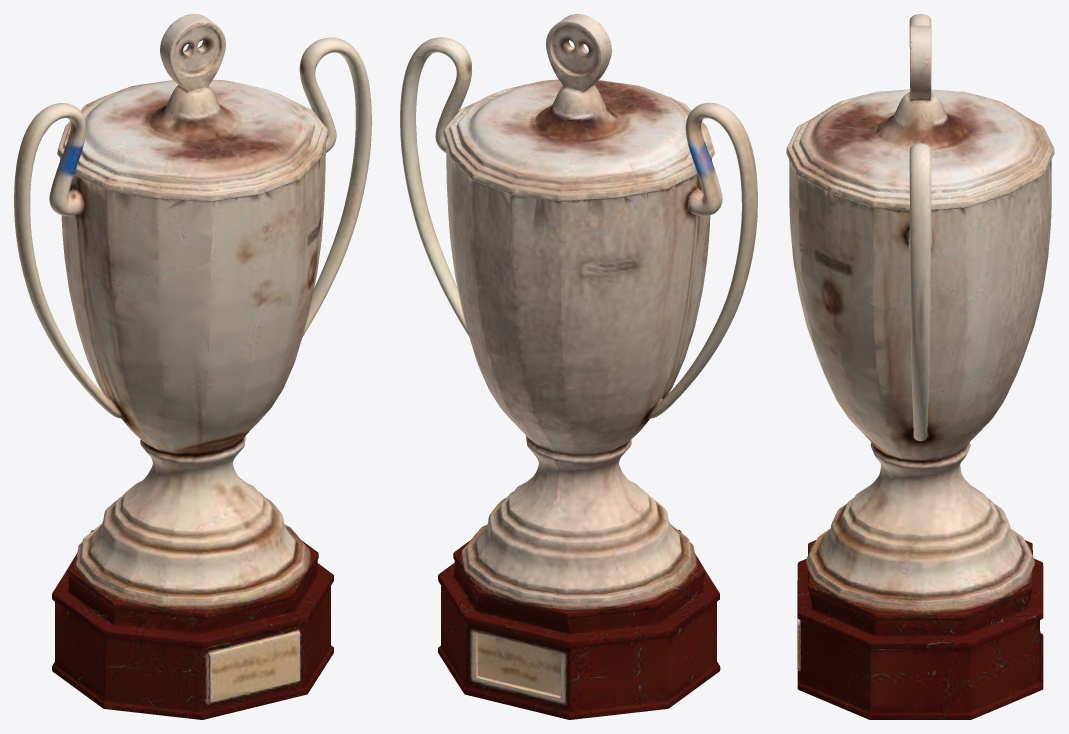
Rendered from afro-asian-club-championship.mobile.glb.
3 renders of one model, left to right at view 1: azimuth 30°, elevation 25°; view 2: azimuth 150°, elevation 25°; view 3: azimuth 270°, elevation 25°, orthographic.
Parts seen in each view (by area): view 1: mesh_node; view 2: mesh_node; view 3: mesh_node.
Boxes of the visible parts, left/top/right/bottom form: mesh_node: left=14, top=14, right=371, bottom=719; mesh_node: left=400, top=14, right=757, bottom=719; mesh_node: left=786, top=14, right=1054, bottom=719.
Size of the model in its own units: 1.09 by 1.9 by 0.7256.
Materials: 1 (1 with a texture image).
